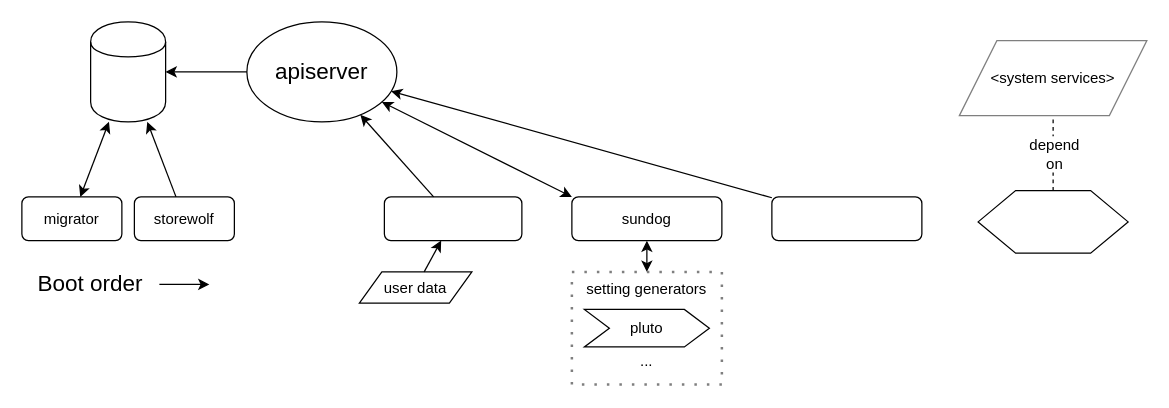
Some shapes in this 1169 by 408 pixel diagram are drawn without their labels. The shapes that lost their labels are listed below. From the top down, each one's centre as x and y in pixels, then its label:
At point 127,71: "data store".
At point 452,218: "early-boot-config (first boot only)".
At point 846,218: "settings-applier".
At point 1052,221: "configured.target".
